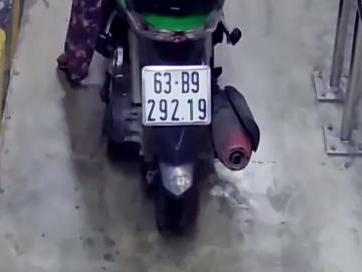num_plate: (141, 65, 211, 123)
